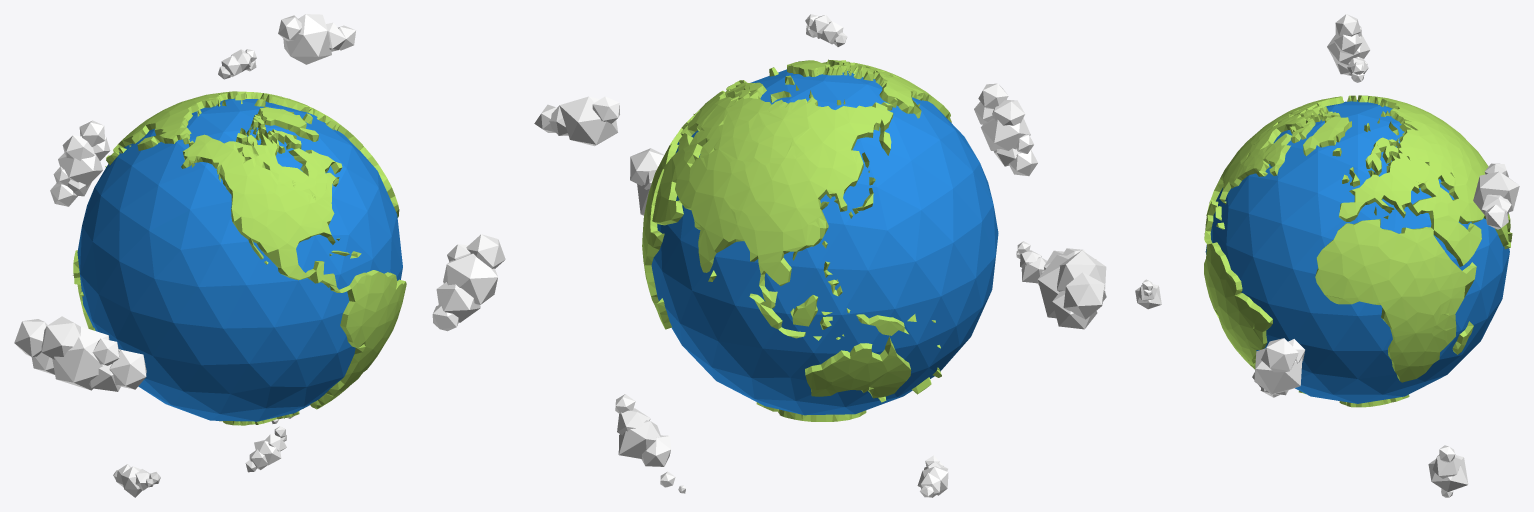
Rendered from globe.glb.
3 views of the same model, side by side, from view 1: azimuth 30°, elevation 25°; view 2: azimuth 150°, elevation 25°; view 3: azimuth 270°, elevation 25° (orthographic). The views are drawn at different scales.
Visible parts, largest first — view 1: Ocean, Low Poly Earth.001, Cloud 3, Cloud 5, Cloud 2, Cloud 4, Cloud 7, Cloud 8, Cloud 1; view 2: Ocean, Low Poly Earth.001, Cloud 3, Cloud 2, Cloud 4, Cloud 6, Cloud 5, Cloud 8, Cloud 1, Cloud 7; view 3: Low Poly Earth.001, Ocean, Cloud 5, Cloud 4, Cloud 2, Cloud 6, Cloud 7.
Boxes of the visible parts, x1,y1,x2,y2 form: Ocean: (77, 98, 402, 421); Low Poly Earth.001: (73, 91, 406, 425); Cloud 3: (14, 316, 146, 391); Cloud 5: (432, 234, 505, 331); Cloud 2: (50, 120, 110, 206); Cloud 4: (278, 14, 355, 64); Cloud 7: (245, 426, 286, 472); Cloud 8: (113, 464, 160, 497); Cloud 1: (218, 49, 256, 79); Ocean: (651, 69, 998, 415); Low Poly Earth.001: (642, 59, 951, 421); Cloud 3: (1037, 248, 1106, 329); Cloud 2: (974, 83, 1037, 176); Cloud 4: (534, 96, 619, 146); Cloud 6: (615, 394, 685, 493); Cloud 5: (630, 148, 664, 215); Cloud 8: (917, 455, 948, 497); Cloud 1: (805, 14, 847, 46); Cloud 7: (1016, 241, 1046, 285); Low Poly Earth.001: (1204, 95, 1512, 407); Ocean: (1205, 100, 1509, 403); Cloud 5: (1252, 338, 1305, 397); Cloud 4: (1473, 163, 1519, 229); Cloud 2: (1327, 14, 1370, 76); Cloud 6: (1428, 445, 1468, 497); Cloud 7: (1135, 279, 1161, 309).
Bounding box in the file's own units: 3.25 × 2.88 × 2.53.
